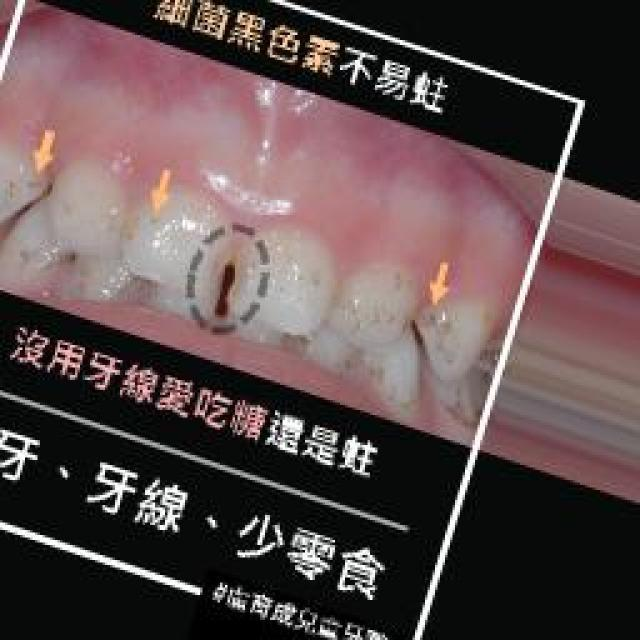caries: (215, 258, 238, 321), (430, 318, 453, 348), (15, 175, 45, 193), (58, 248, 81, 263), (150, 215, 168, 230)
